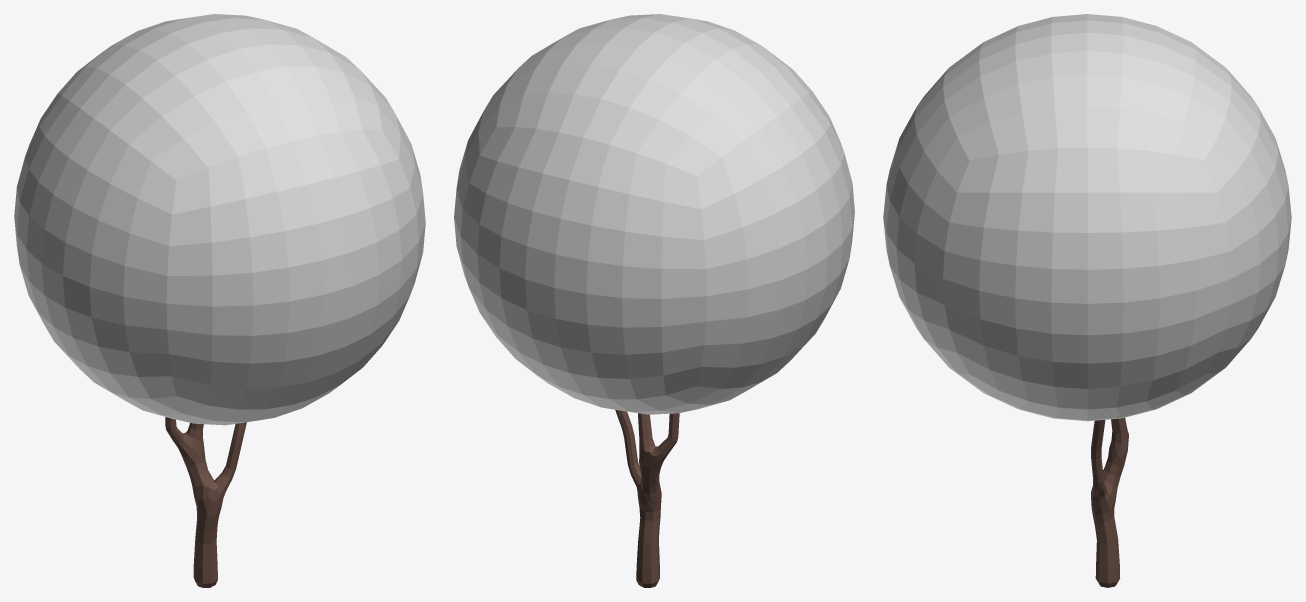
The model's file is tree try unity  2.fbx.
The picture shows the model from 3 angles, left to right: view 1: azimuth 30°, elevation 25°; view 2: azimuth 150°, elevation 25°; view 3: azimuth 270°, elevation 25°; orthographic projection. The views are drawn at different scales.
Visible parts, largest first — view 1: Roundcube.004, Trunk.002; view 2: Roundcube.004, Trunk.002; view 3: Roundcube.004, Trunk.002.
Part boxes in pixels (<box>): Roundcube.004: <box>14,14,425,425</box>; Trunk.002: <box>165,417,246,587</box>; Roundcube.004: <box>454,14,854,414</box>; Trunk.002: <box>615,410,679,587</box>; Roundcube.004: <box>883,14,1291,421</box>; Trunk.002: <box>1091,417,1128,587</box>.
Size of the model in its own units: 1758 by 2630 by 1758.
